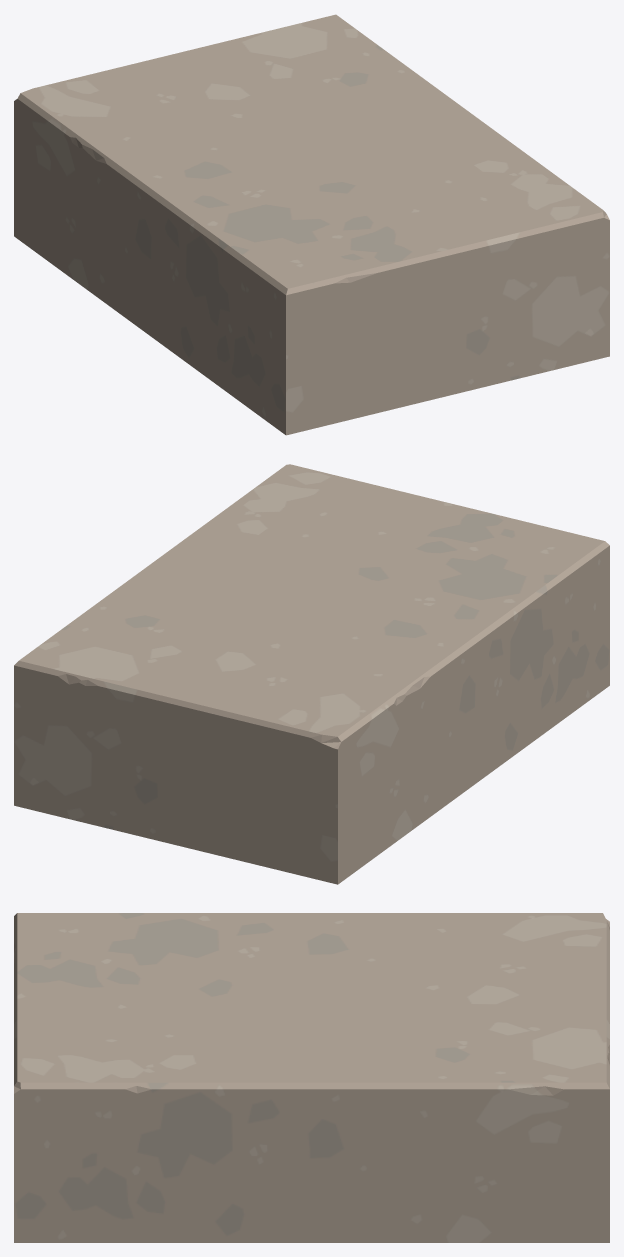
File: SM_Bld_Plinth_01.glb
3 renders of one model, top to bottom at view 1: azimuth 30°, elevation 25°; view 2: azimuth 150°, elevation 25°; view 3: azimuth 270°, elevation 25°, orthographic. The views are drawn at different scales.
Visible parts, largest first — view 1: SM_Bld_Plinth_01; view 2: SM_Bld_Plinth_01; view 3: SM_Bld_Plinth_01.
Part boxes in pixels (bbox=[...]): SM_Bld_Plinth_01: bbox=[14, 14, 609, 435]; SM_Bld_Plinth_01: bbox=[14, 464, 609, 884]; SM_Bld_Plinth_01: bbox=[14, 913, 609, 1242].
Size of the model in its own units: 7.03 by 3 by 10.22.
1 material, 1 textured.
